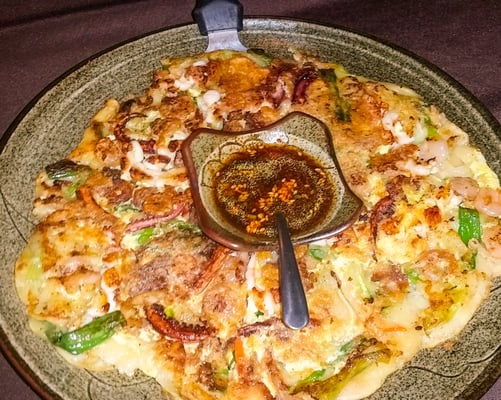sandwich: (275, 212, 309, 330)
